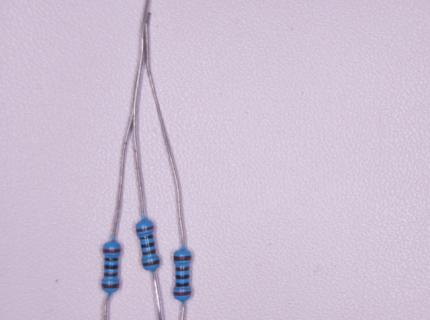Black band: (139, 234, 154, 241), (140, 242, 156, 248), (175, 274, 190, 280), (104, 264, 118, 270), (175, 282, 189, 287), (104, 257, 119, 261)
Brown band: (142, 259, 161, 268), (142, 249, 157, 256), (102, 283, 119, 289), (173, 256, 191, 261), (175, 266, 190, 271), (104, 272, 118, 277)
Red band: (135, 226, 154, 233), (173, 291, 192, 296), (103, 249, 120, 254)
